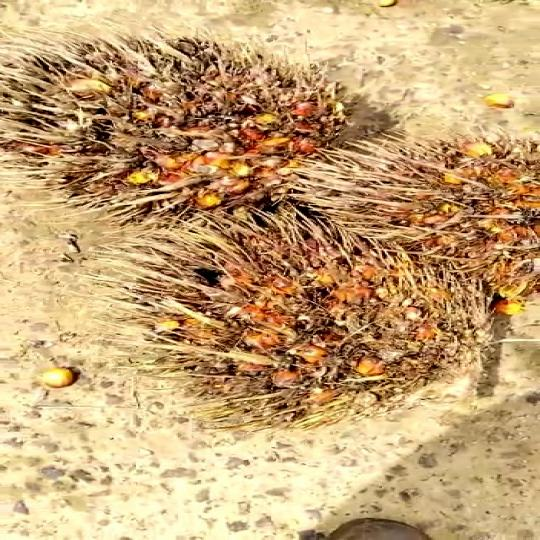terlalu masak: (88, 211, 494, 405), (0, 50, 382, 201)
